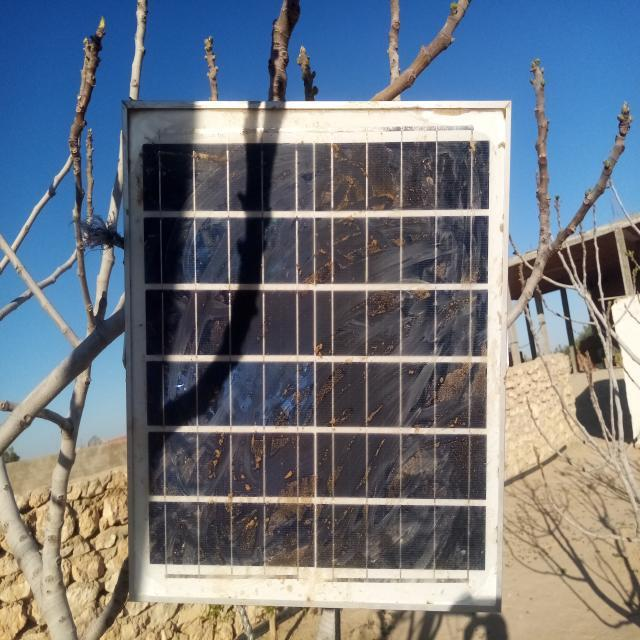faulty: (126, 105, 508, 609)
